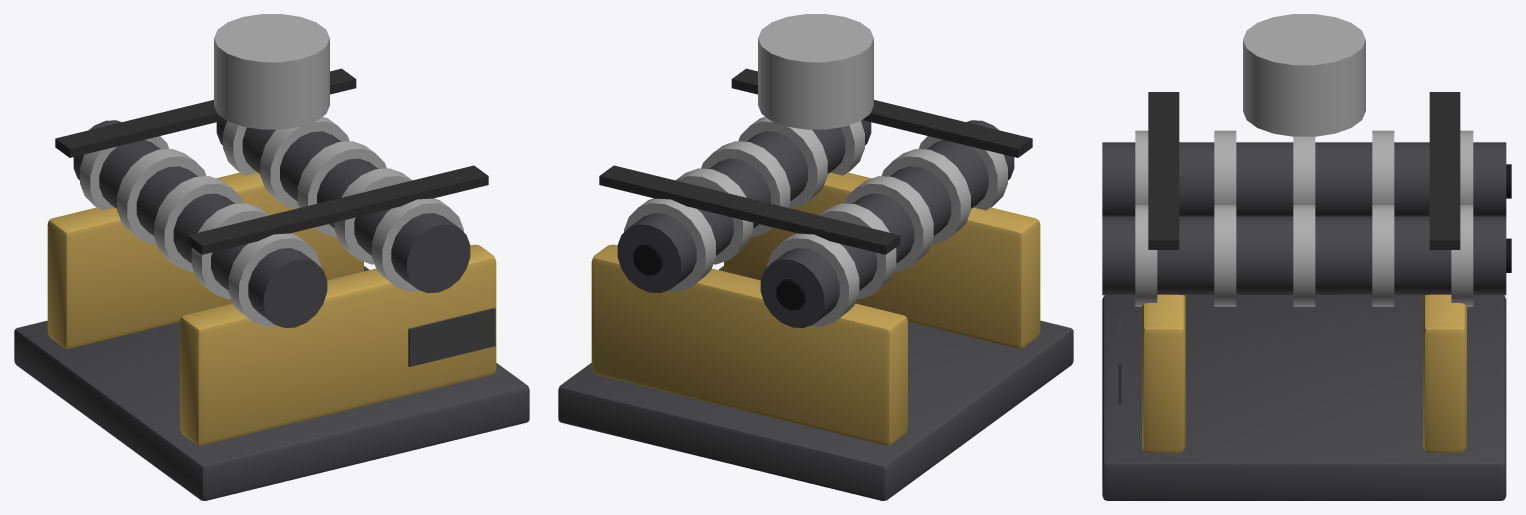
The model's file is barrel.glb.
3 renders of one model, left to right at view 1: azimuth 30°, elevation 25°; view 2: azimuth 150°, elevation 25°; view 3: azimuth 270°, elevation 25°, orthographic. The views are drawn at different scales.
Visible parts, largest first — view 1: Part; view 2: Part; view 3: Part.
Part boxes in pixels (x1,y1,x2,y2): Part: (14, 14, 529, 500); Part: (558, 14, 1073, 500); Part: (1102, 14, 1511, 500).
Bounding box in the file's own units: 0.46 × 0.488 × 0.466.
